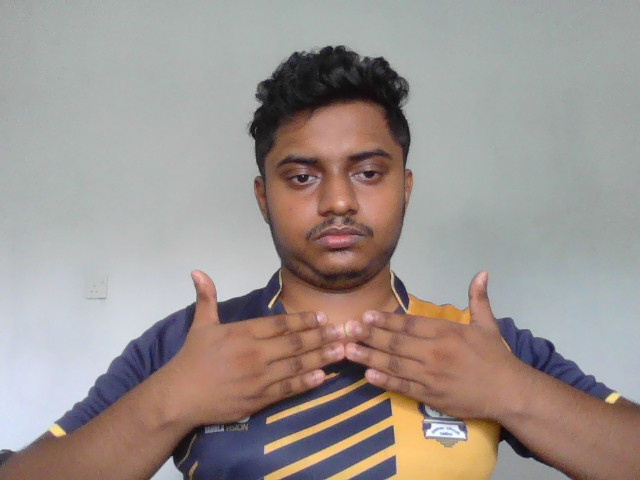Thank You: (188, 268, 509, 430)
